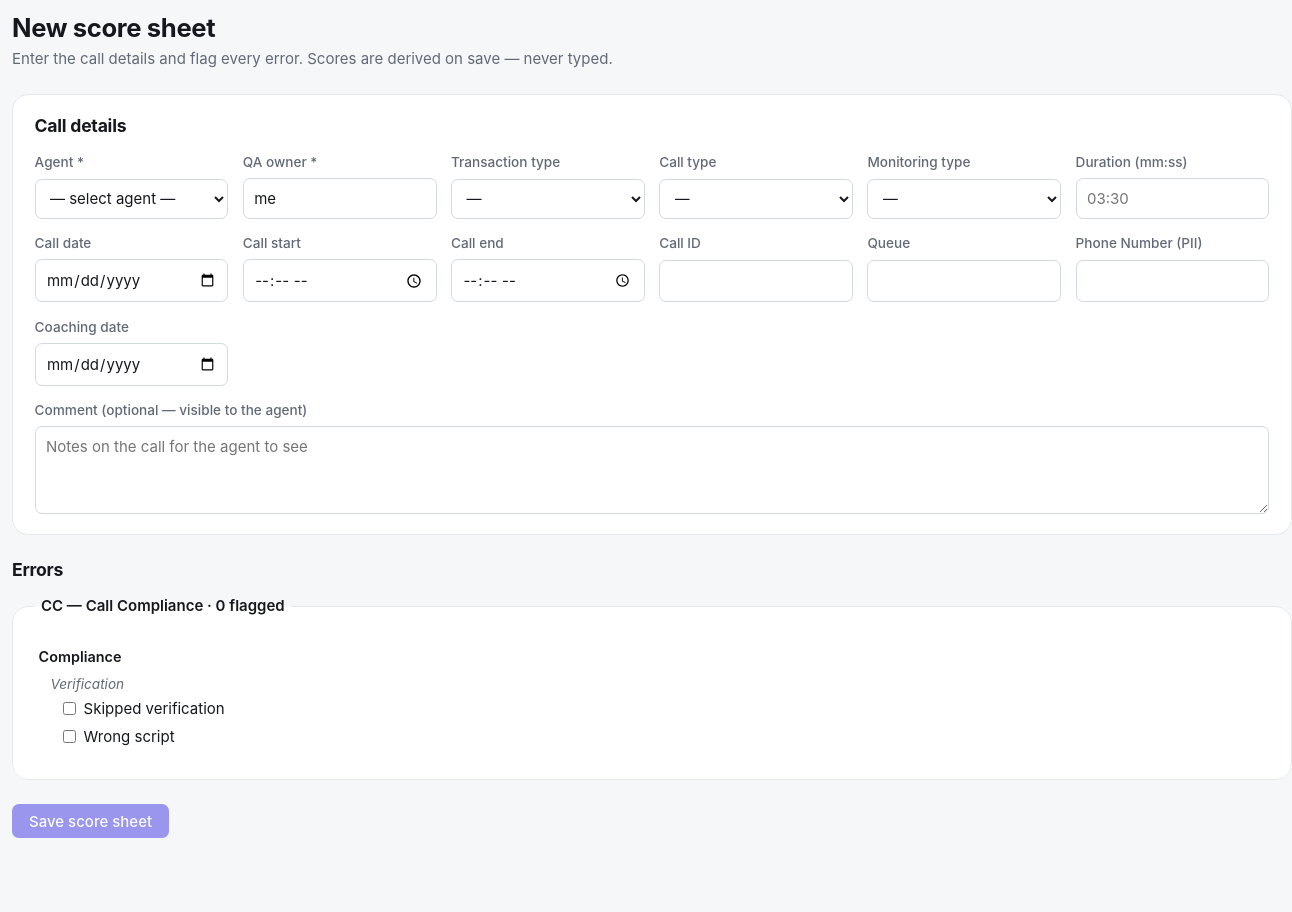
Test: ScoreSheetForm (form → derivation boundary) › clears the sheet after a successful save, keeping the QA owner
Step 1. Select "Test Agent (5001)" in the dropdown labelled "Agent" → (132, 199), box [35,179,228,219]
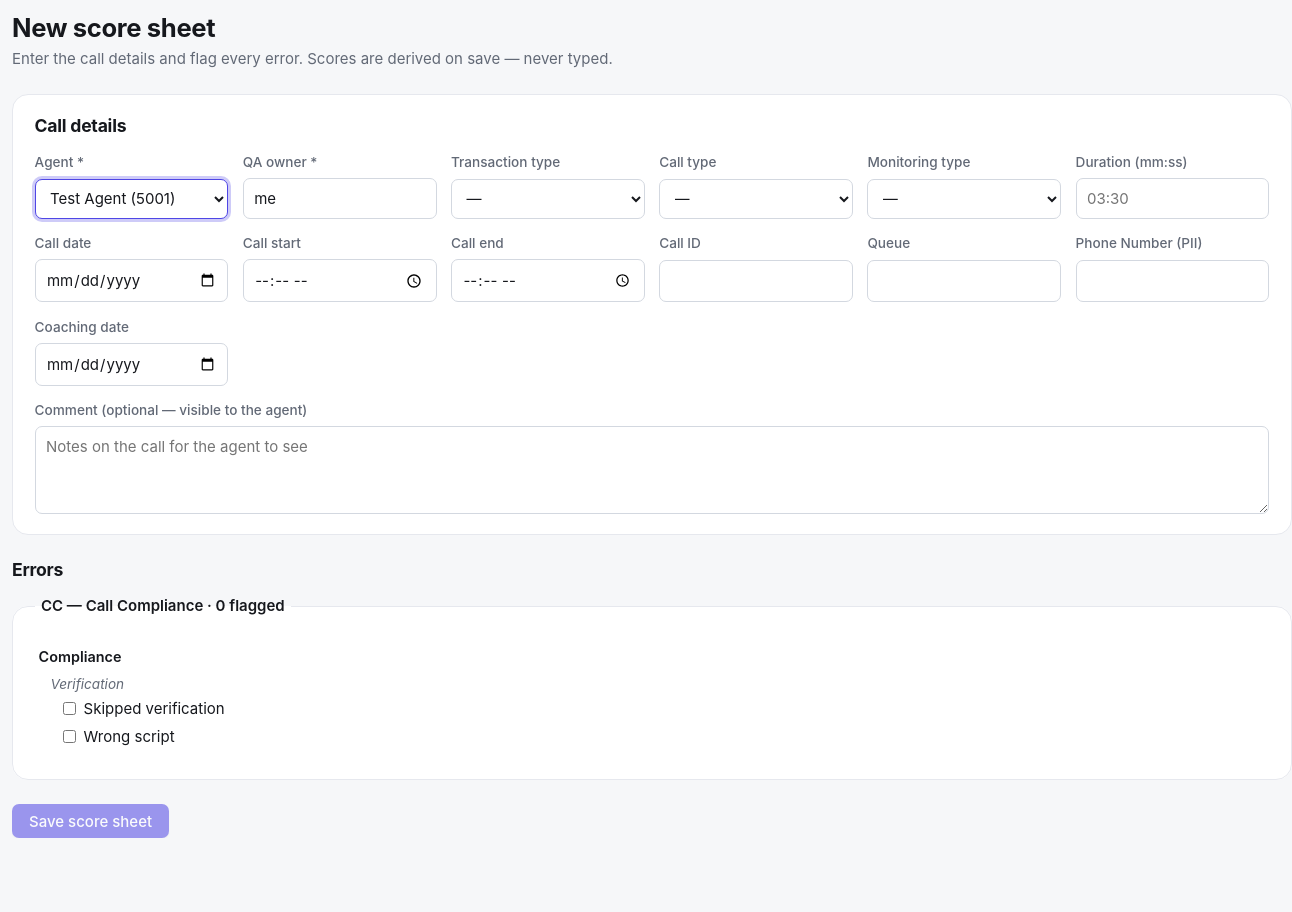
Step 2. Type "2025-07-15" into the date field named "callDate" → (132, 281), box [35,259,228,302]
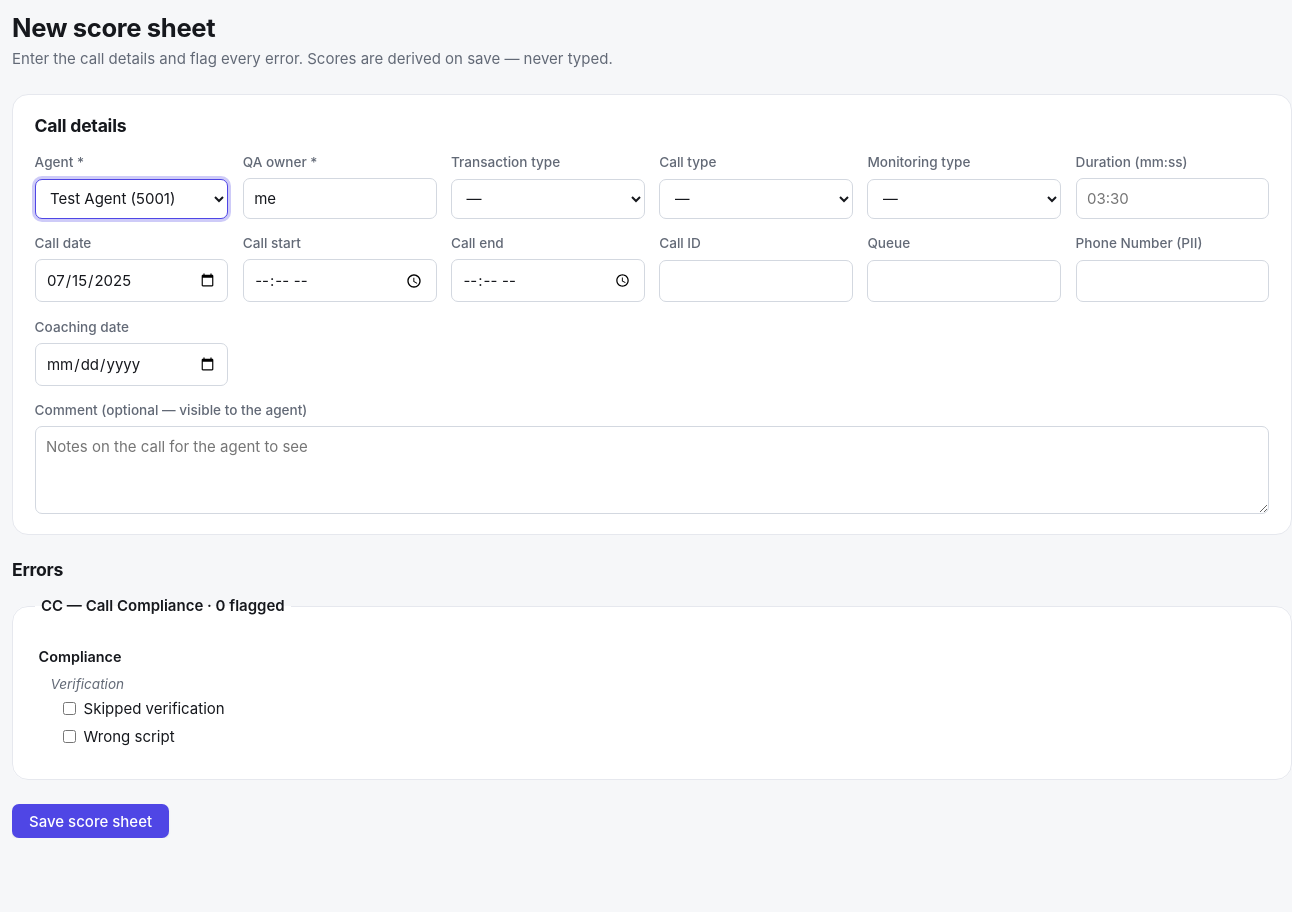
Step 3. Select "Program Level" in the dropdown named "monitoringType" → (964, 199), box [867,179,1061,219]
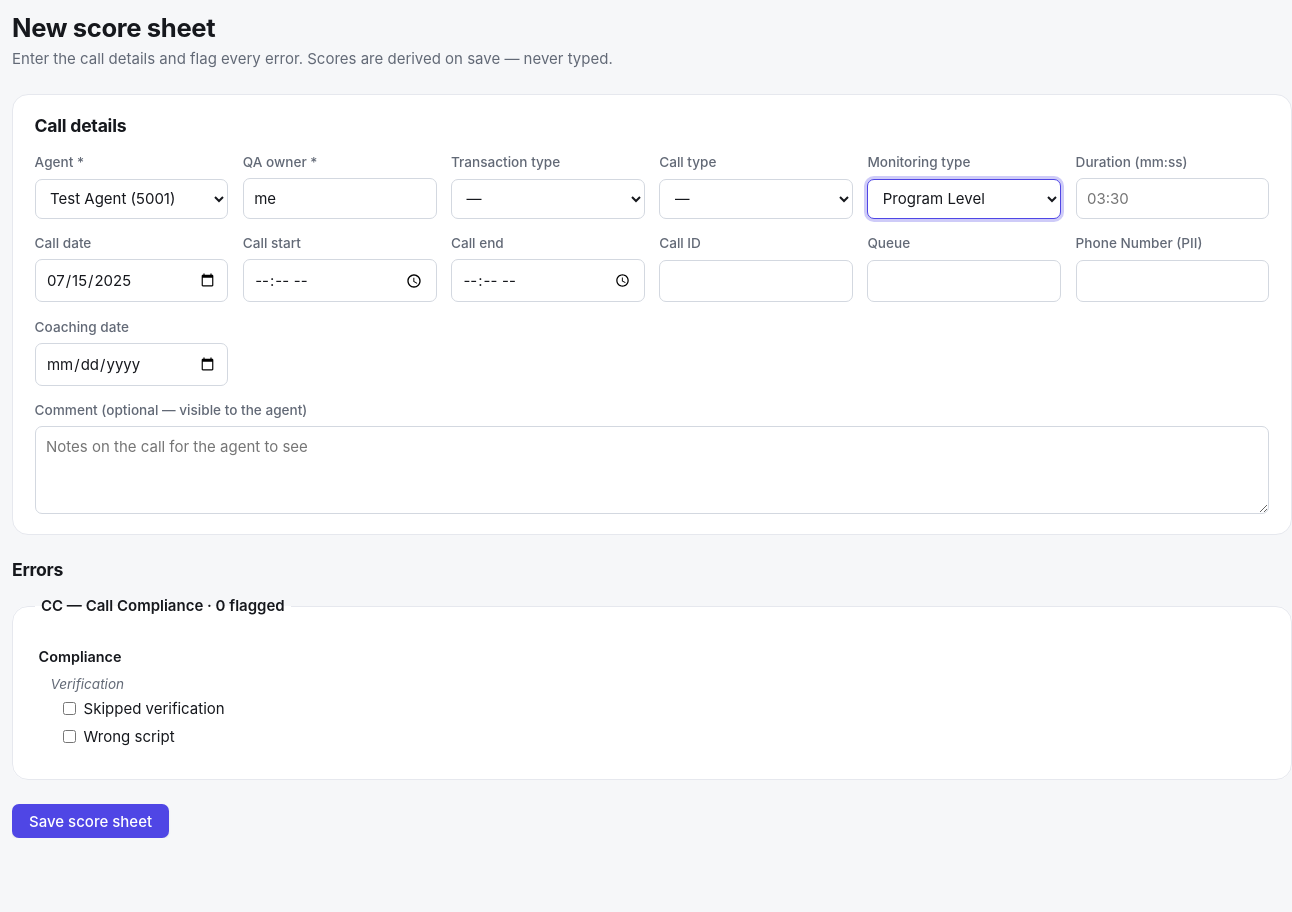
Step 4. Type "3:30" into the field labelled "Duration" → (1172, 198), box [1076,178,1269,219]
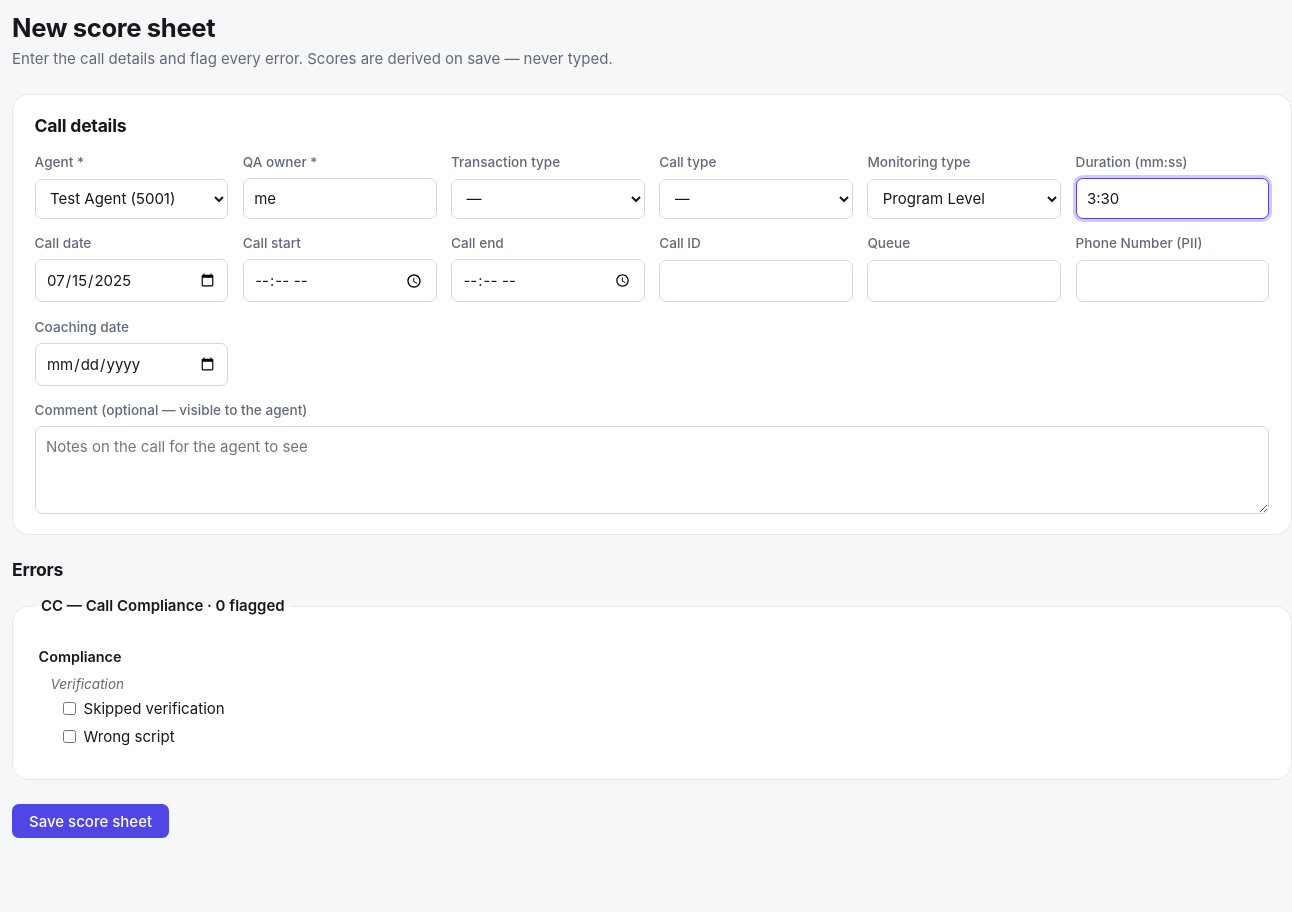
Step 5. Click the checkbox named "reason-1000" → (69, 709), box [63,702,76,715]
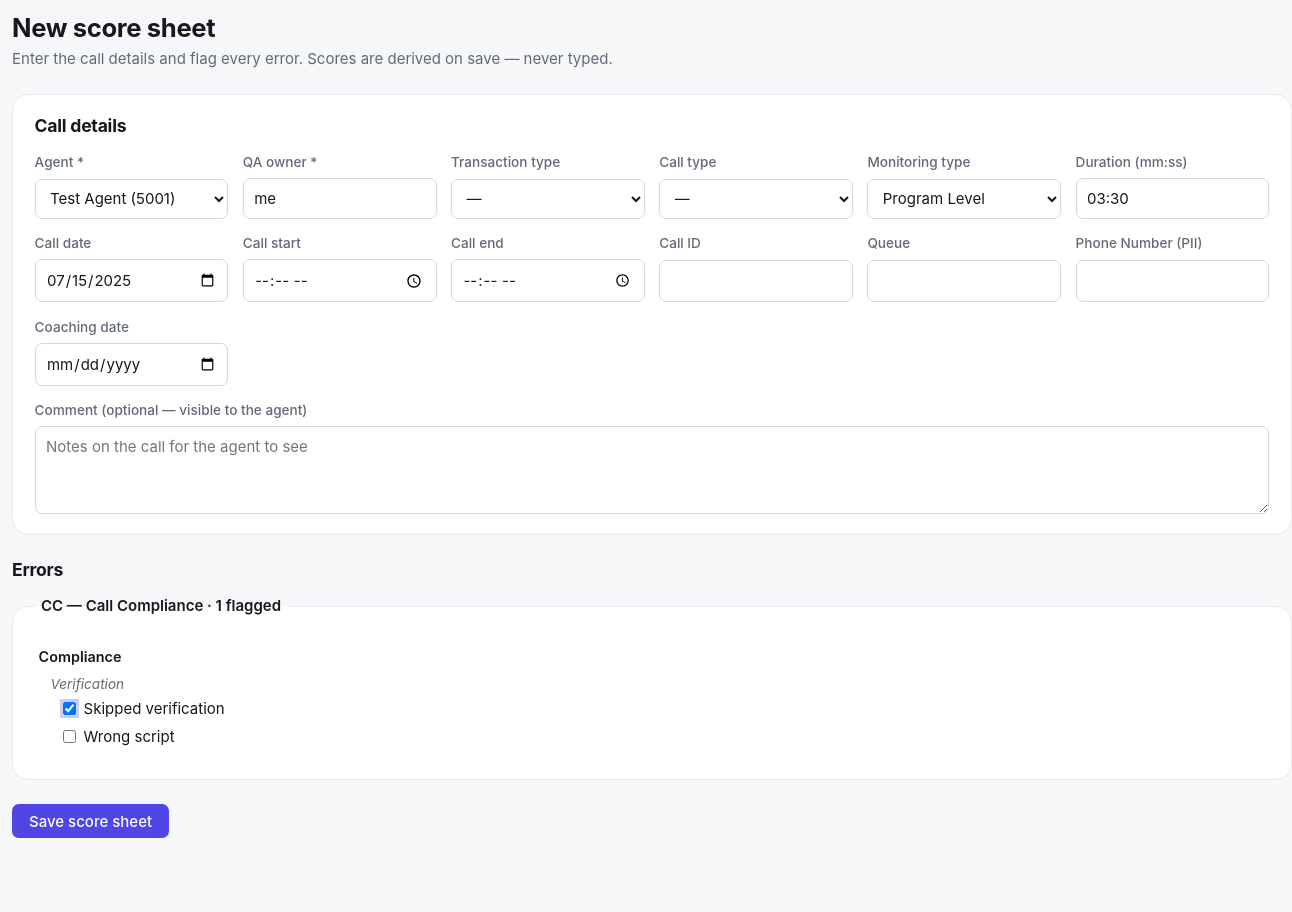
Step 6. Click the button "Save score sheet" → (91, 821), box [12,804,169,838]
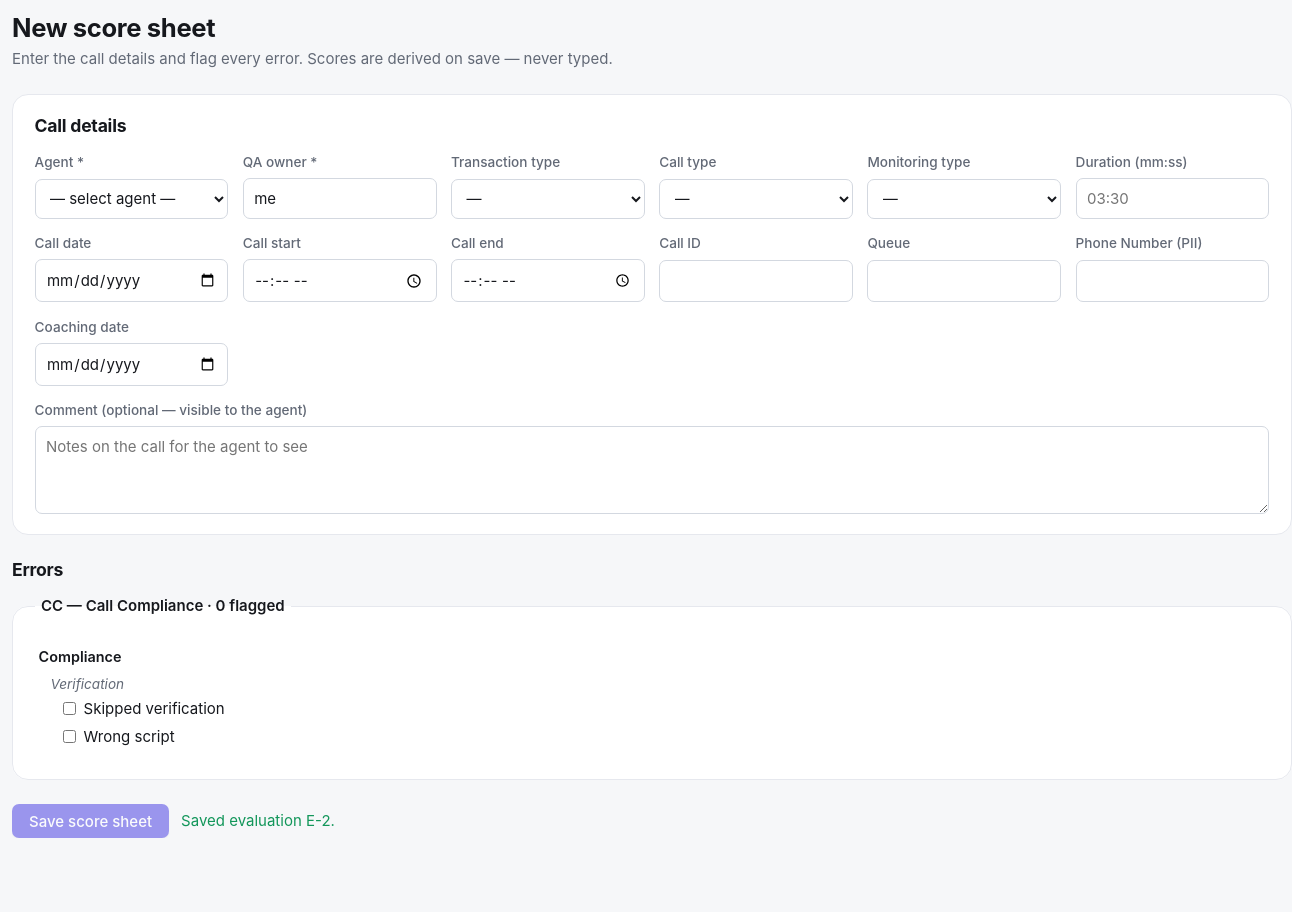
Expected: the text "Saved evaluation E-2." is shown, [181,810,335,833]
Expected: the date field named "callDate" is empty, [35,259,228,302]
Expected: the field labelled "Duration" is empty, [1076,178,1269,219]
